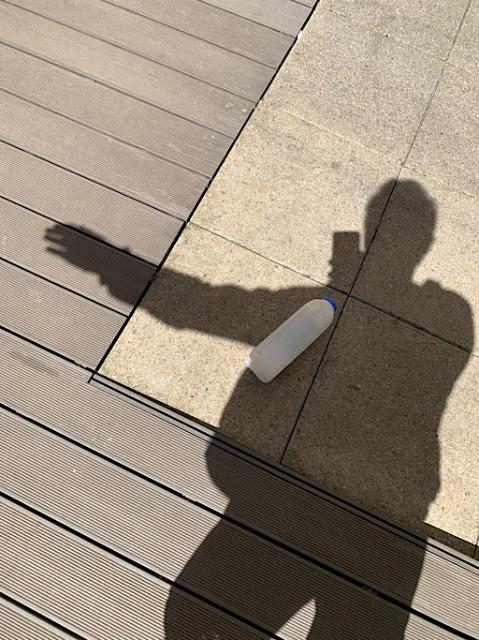plastic: (246, 296, 335, 381)
